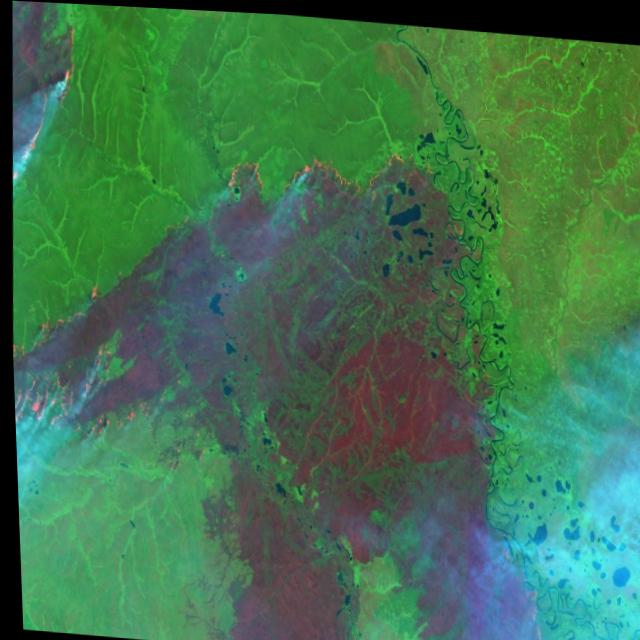fire: (7, 256, 128, 454), (217, 133, 444, 231), (5, 0, 84, 178)
